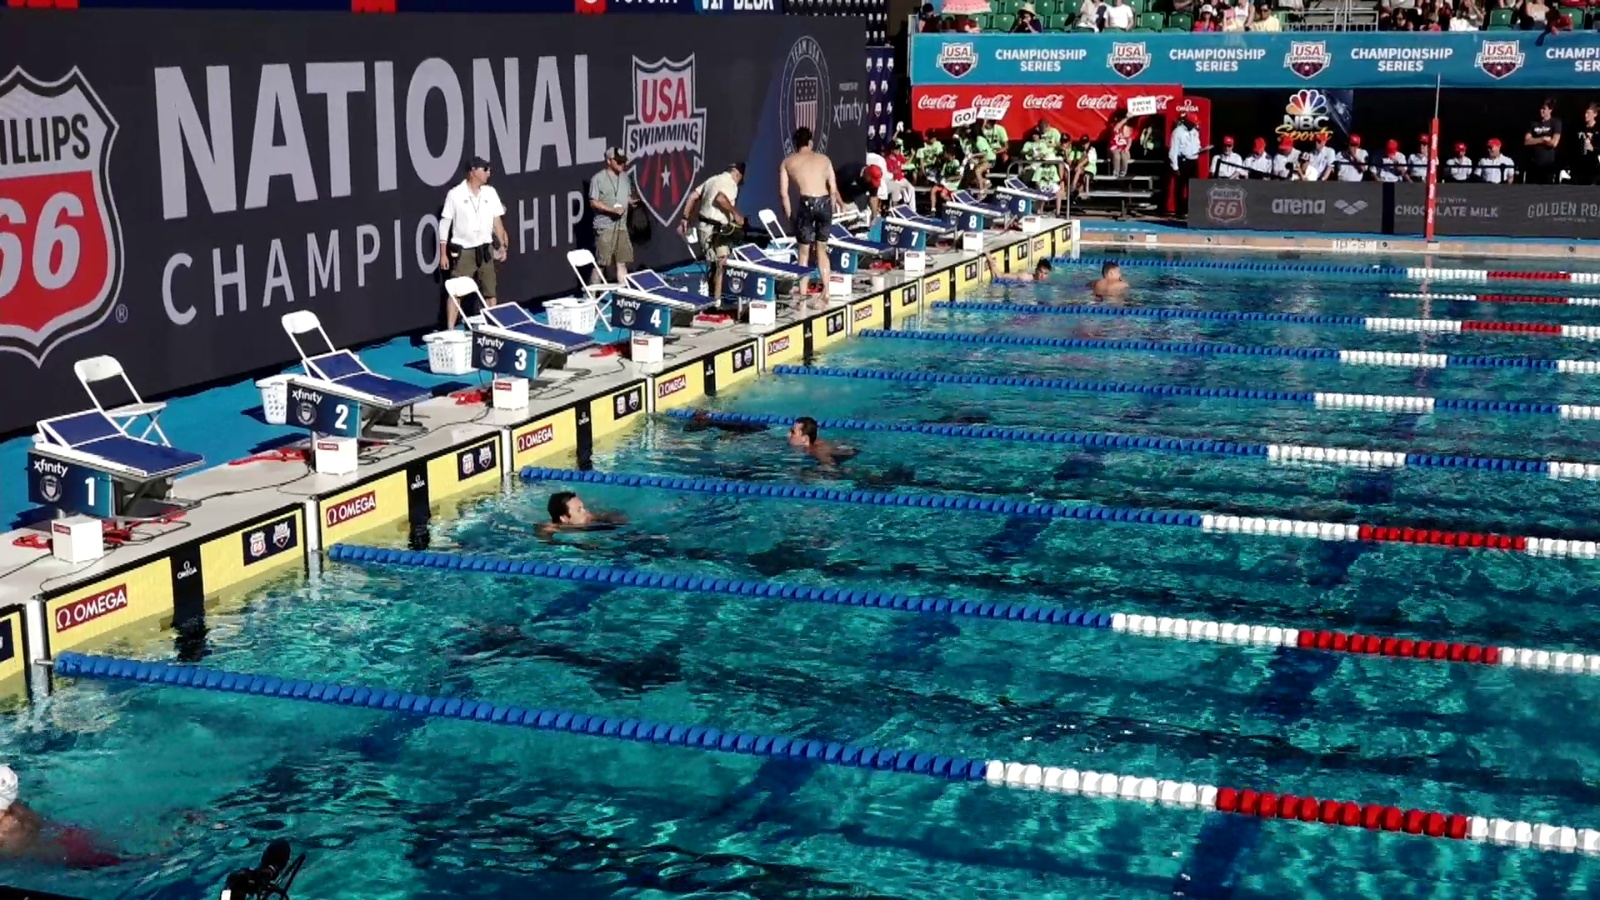swimmerw: (1, 762, 129, 875), (525, 487, 627, 555), (784, 420, 862, 481), (978, 245, 1067, 284), (1085, 263, 1138, 305)
